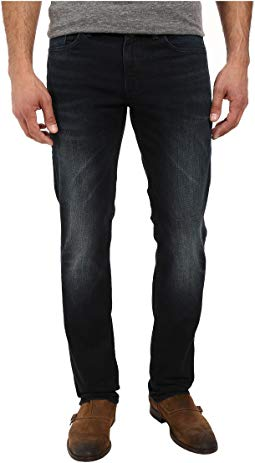Jeans: (36, 34, 214, 403)
